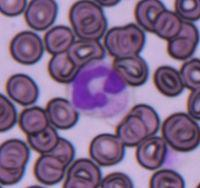N: (68, 59, 130, 117)
